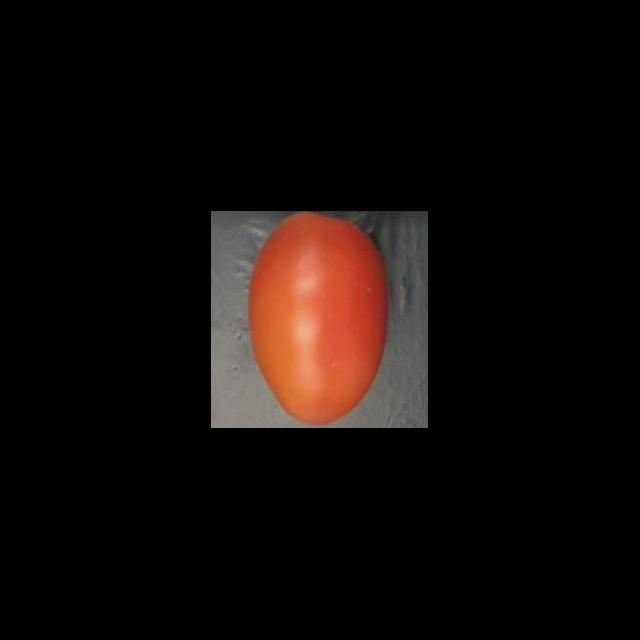tomato: (246, 212, 394, 428)
